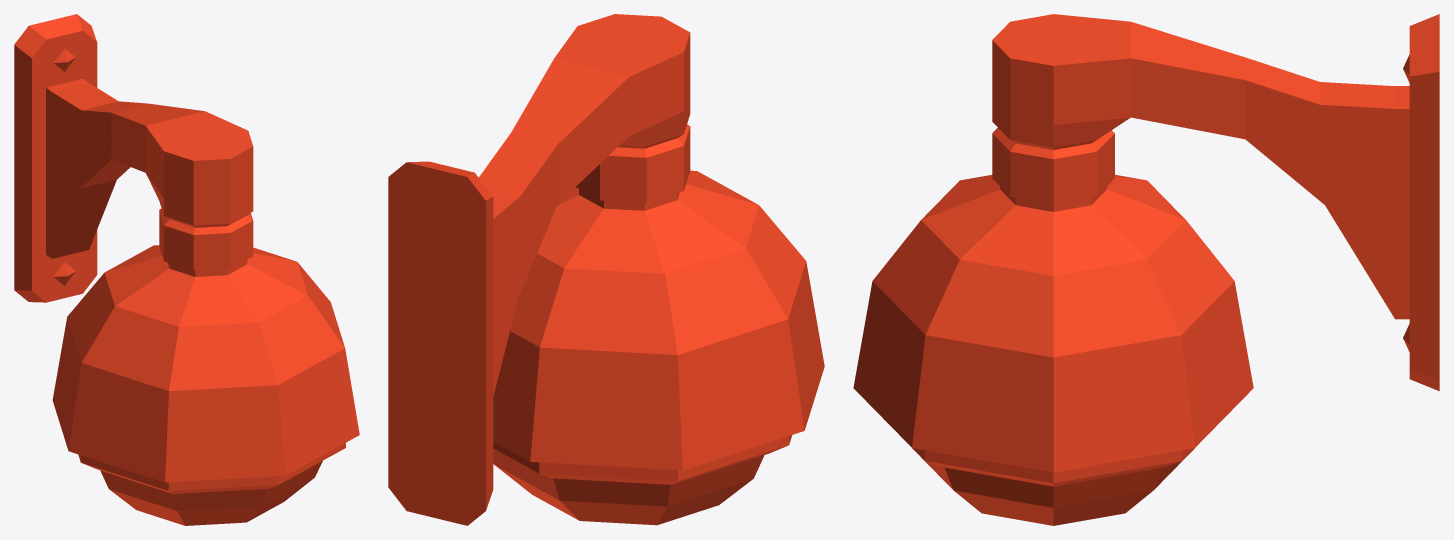
The model's file is SM_Security_Cam_B_City.fbx.
3 renders of one model, left to right at view 1: azimuth 30°, elevation 25°; view 2: azimuth 150°, elevation 25°; view 3: azimuth 270°, elevation 25°, orthographic. The views are drawn at different scales.
Visible parts, largest first — view 1: SM_Security_Cam_B_City; view 2: SM_Security_Cam_B_City; view 3: SM_Security_Cam_B_City.
Part boxes in pixels (<box>): SM_Security_Cam_B_City: <box>14,14,359,525</box>; SM_Security_Cam_B_City: <box>388,14,824,525</box>; SM_Security_Cam_B_City: <box>853,14,1439,525</box>.
Bounding box in the file's own units: 0.1975 × 0.2575 × 0.2892.
